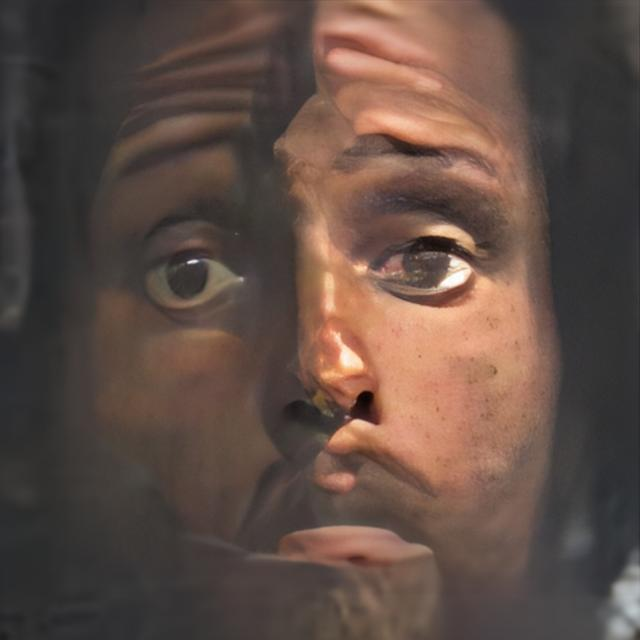Fear: (52, 0, 564, 640)
